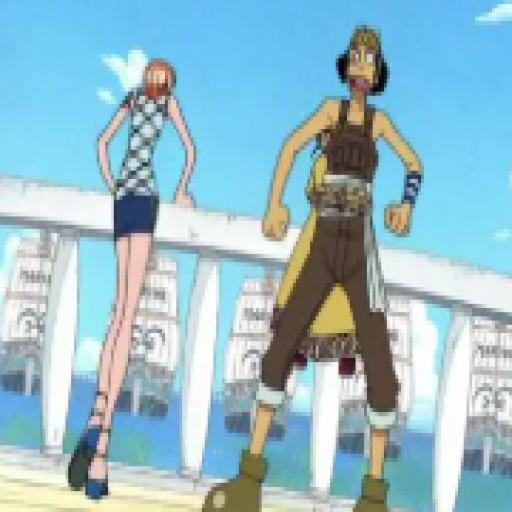Nami: (67, 60, 198, 506)
Usopp: (200, 24, 428, 512)
